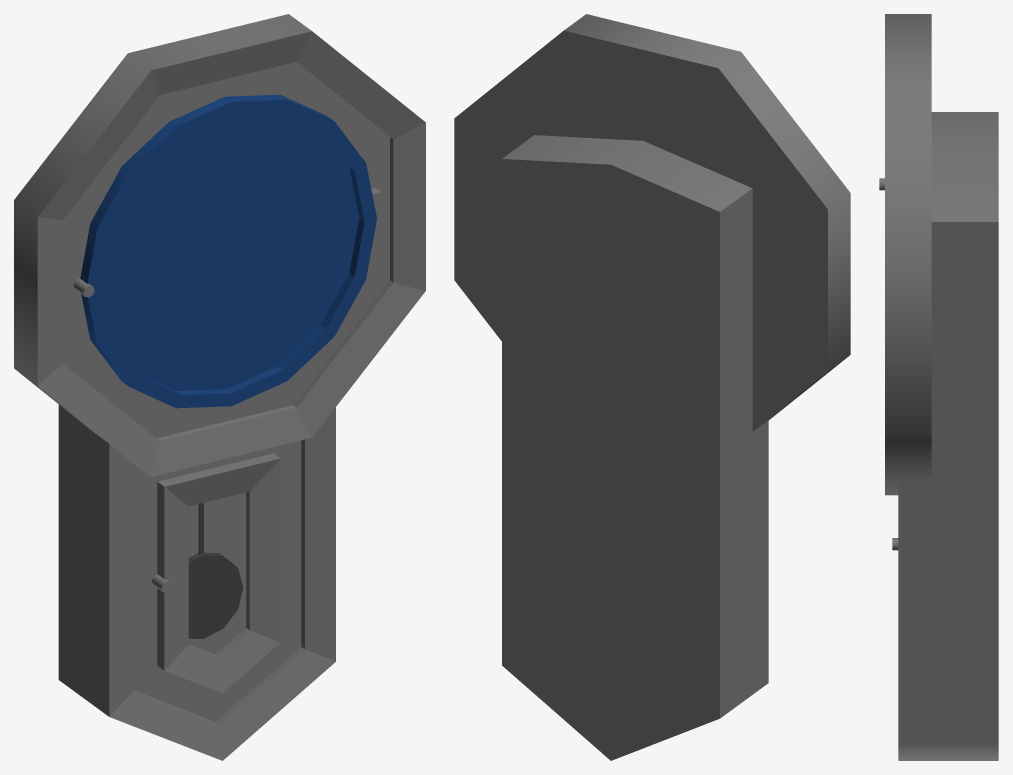
The model's file is clock.FBX.
3 views of the same model, side by side, from view 1: azimuth 30°, elevation 25°; view 2: azimuth 150°, elevation 25°; view 3: azimuth 270°, elevation 25° (orthographic). The views are drawn at different scales.
Parts seen in each view (by area): view 1: clock; view 2: clock; view 3: clock.
Part boxes in pixels (x1,y1,x2,y2): clock: [14, 14, 425, 760]; clock: [454, 14, 850, 760]; clock: [879, 14, 998, 760].
Size of the model in its own units: 127 by 223 by 34.
